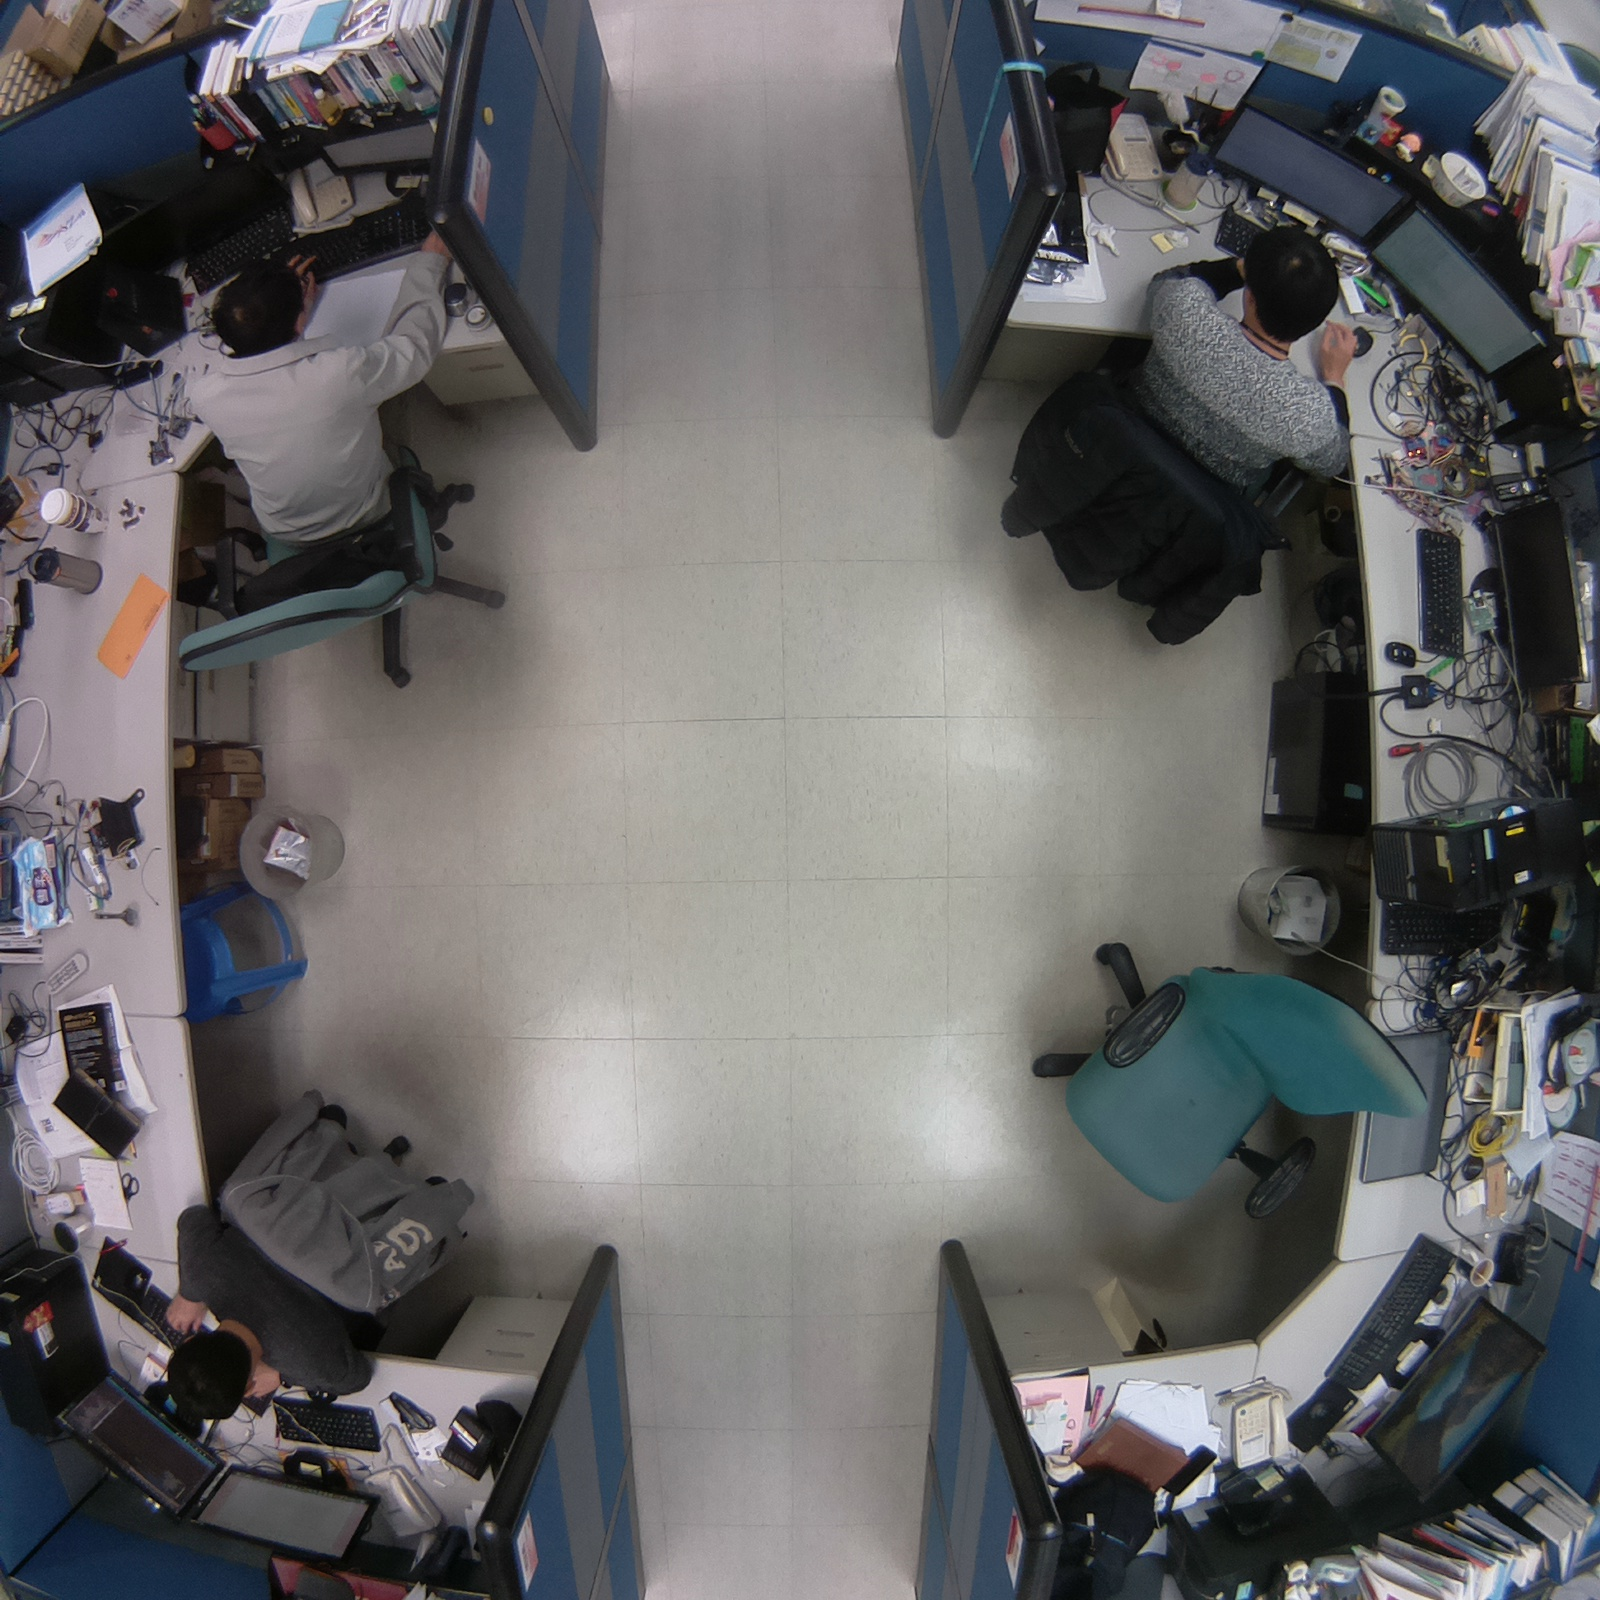chair: (1011, 926, 1440, 1240)
sitting: (141, 190, 527, 715), (970, 212, 1392, 661), (135, 1074, 495, 1448)
